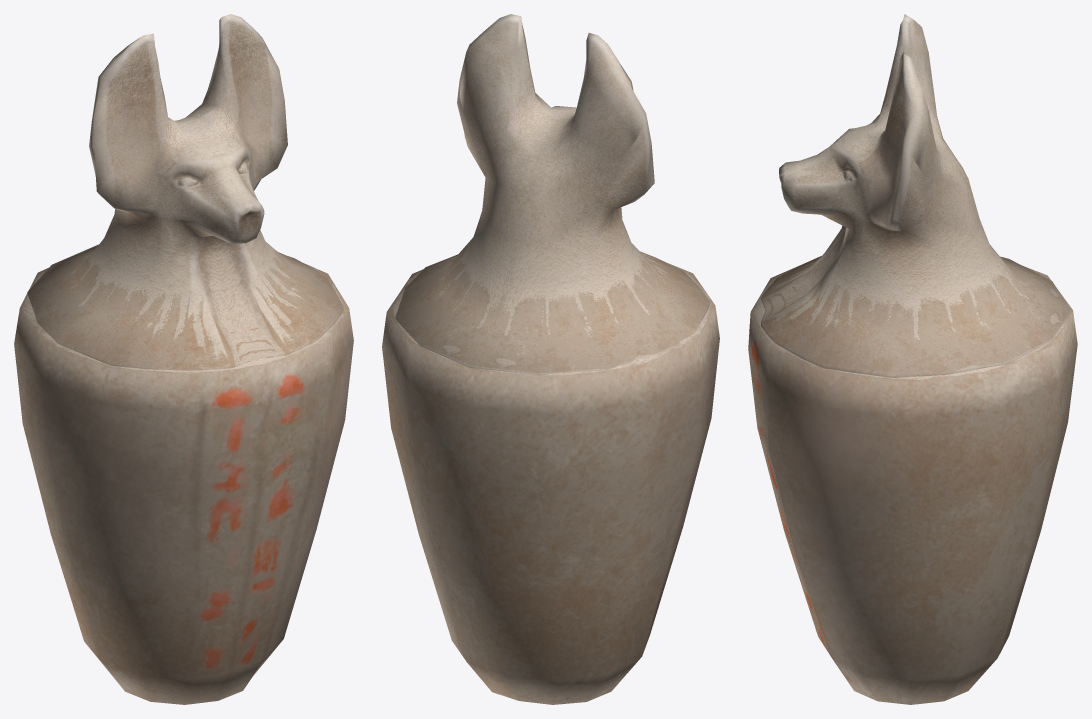
The model's file is Pottery1.fbx.
3 views of the same model, side by side, from view 1: azimuth 30°, elevation 25°; view 2: azimuth 150°, elevation 25°; view 3: azimuth 270°, elevation 25° (orthographic). The views are drawn at different scales.
Parts seen in each view (by area): view 1: Object_2; view 2: Object_2; view 3: Object_2.
Boxes of the visible parts, x1,y1,x2,y2 form: Object_2: (14,14,353,704); Object_2: (382,14,719,704); Object_2: (748,14,1077,704).
Bounding box in the file's own units: 95.57 × 203 × 94.53.
Materials: 1 (1 with a texture image).
